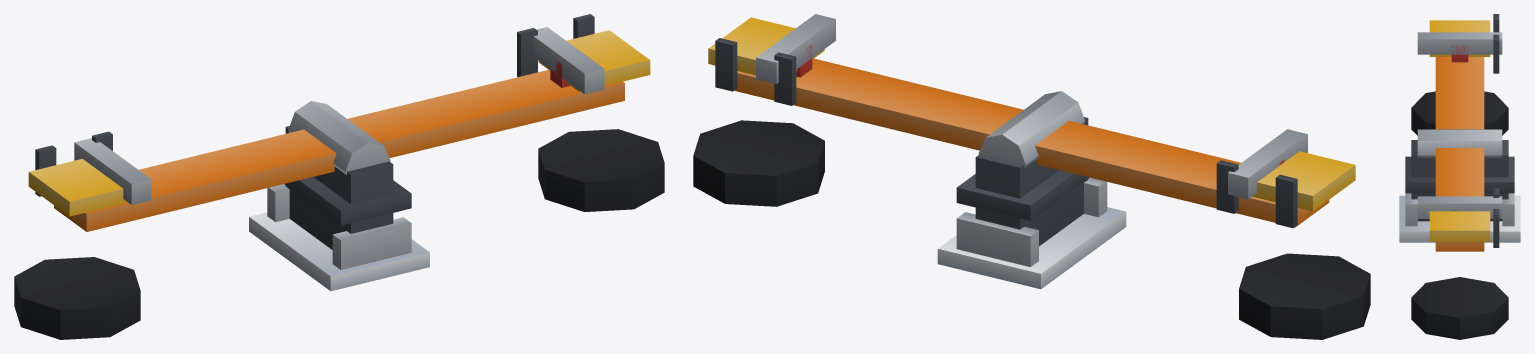
File: ck_seesaw.fbx
The picture shows the model from 3 angles, left to right: view 1: azimuth 30°, elevation 25°; view 2: azimuth 150°, elevation 25°; view 3: azimuth 270°, elevation 25°; orthographic projection. The views are drawn at different scales.
Visible parts, largest first — view 1: ck_seesaw; view 2: ck_seesaw; view 3: ck_seesaw.
Part boxes in pixels (x1,y1,x2,y2): ck_seesaw: (14,14,664,339); ck_seesaw: (693,14,1370,339); ck_seesaw: (1399,14,1520,339).
Size of the model in its own units: 380 by 84.44 by 84.44.
